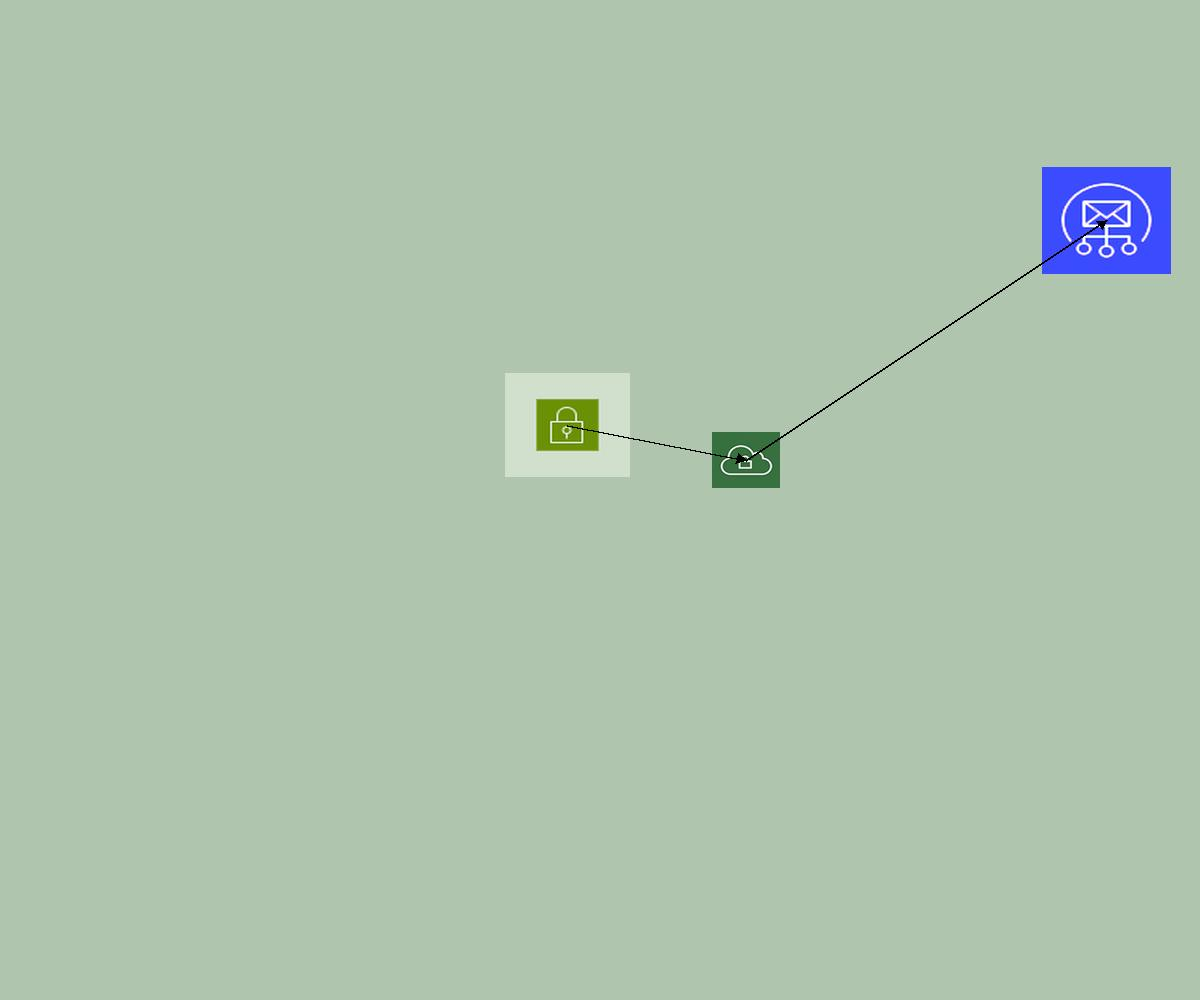AWS-Private_vpc: (712, 432, 780, 488)
AWS-Public-subnet: (505, 373, 630, 477)
AWS-Simple-Email-Service: (1042, 167, 1171, 274)
